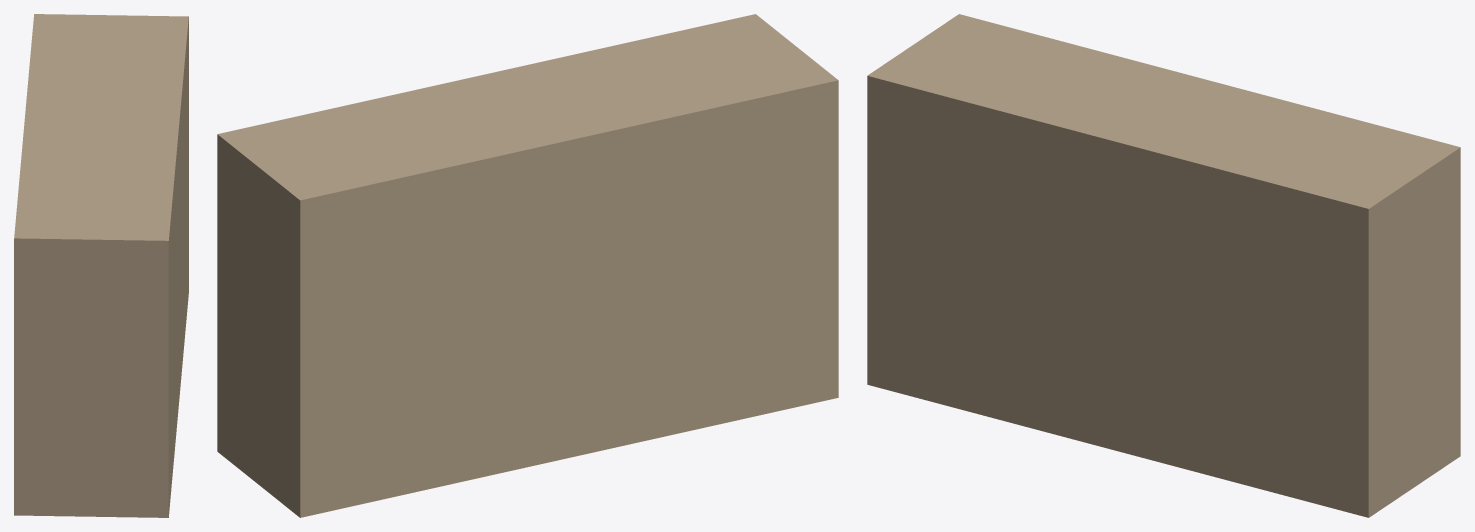
The model's file is bld_100469803.dae.
The picture shows the model from 3 angles, left to right: view 1: azimuth 30°, elevation 25°; view 2: azimuth 150°, elevation 25°; view 3: azimuth 270°, elevation 25°; orthographic projection. The views are drawn at different scales.
Visible parts, largest first — view 1: bld_100469803; view 2: bld_100469803; view 3: bld_100469803.
Part boxes in pixels (box(x1,y1,x2,y2)): bld_100469803: box(14, 14, 188, 517); bld_100469803: box(217, 14, 838, 517); bld_100469803: box(867, 14, 1460, 517).
Size of the model in its own units: 10.83 by 13.93 by 8.
